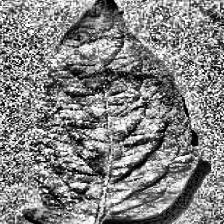spider mites: (22, 0, 201, 224)
